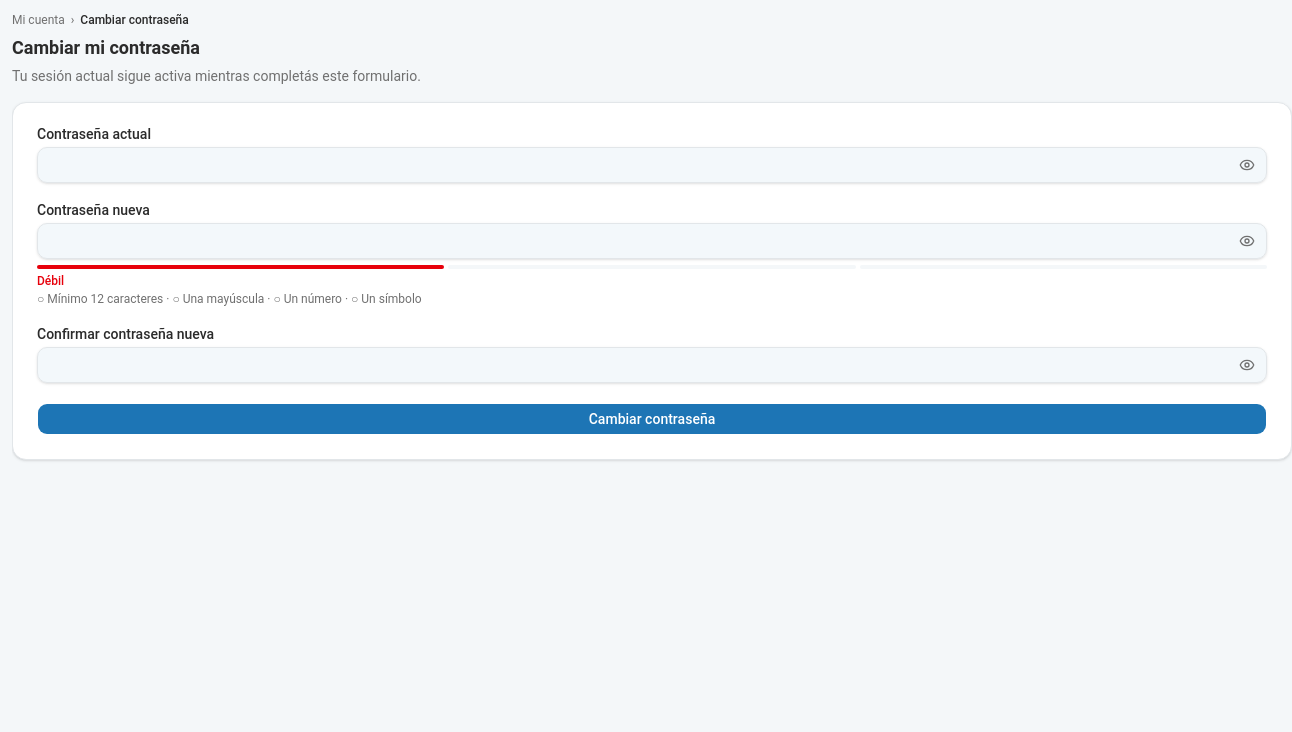
CambiarPassword › muestra que la cuenta quedó bloqueada tras el tercer fallo consecutivo
Step 1. Type "mala" into the password field labelled "Contraseña actual" → point(652, 165), box x1=37 y1=147 x2=1267 y2=183
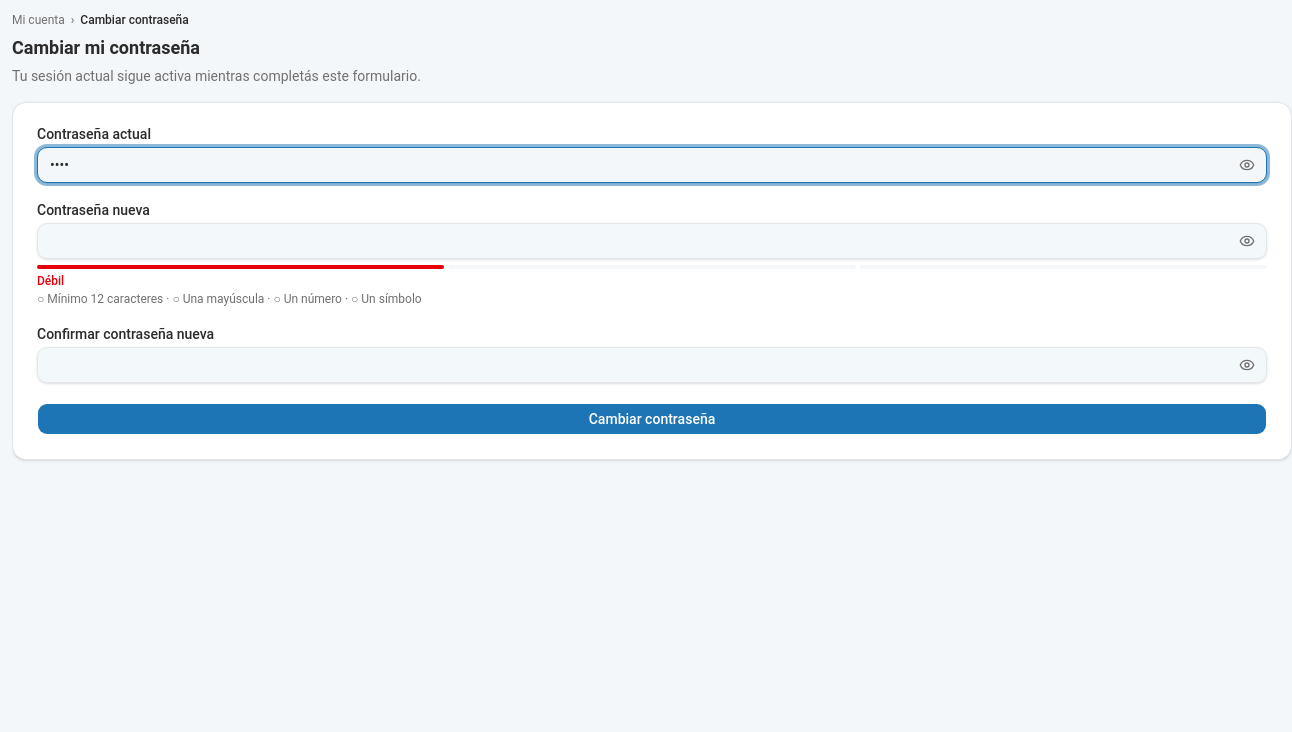
Step 2. Type "nuevaClave123" into the password field labelled "Contraseña nueva" → point(652, 241), box x1=37 y1=223 x2=1267 y2=259
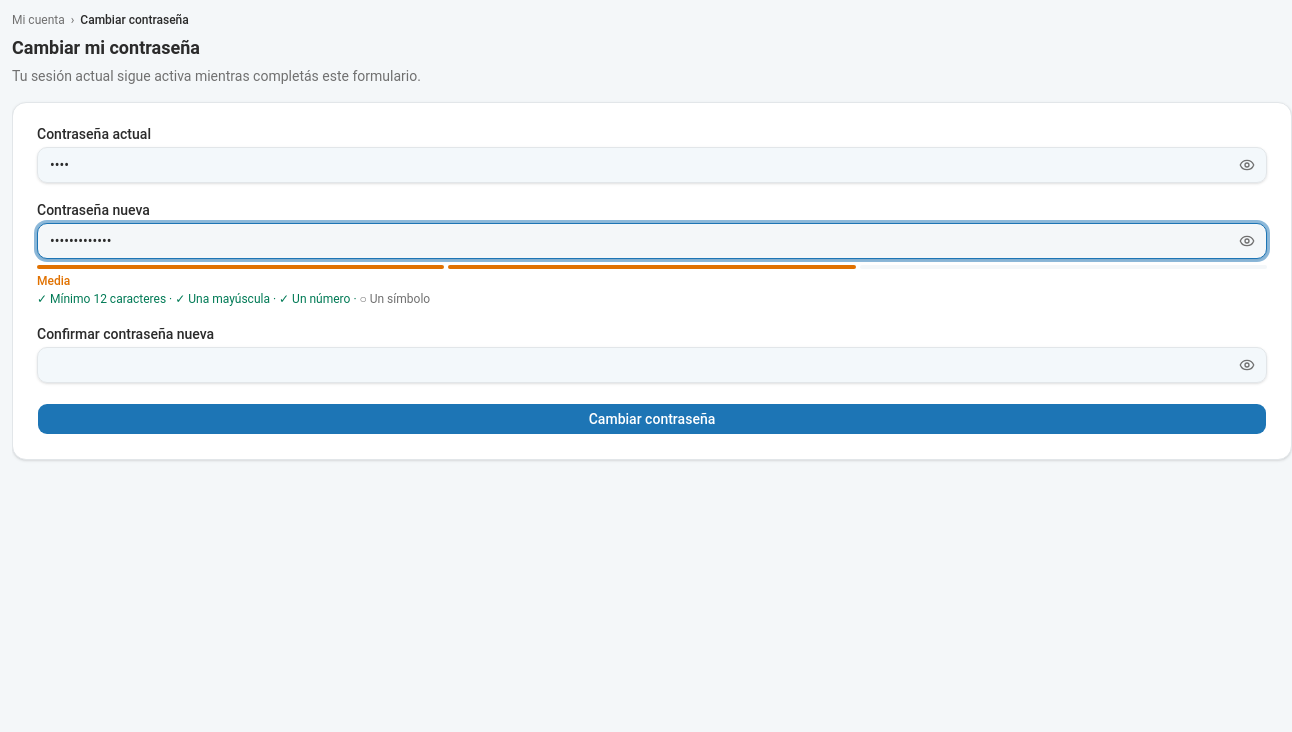
Step 3. Type "nuevaClave123" into the password field labelled "Confirmar contraseña nueva" → point(652, 365), box x1=37 y1=347 x2=1267 y2=383
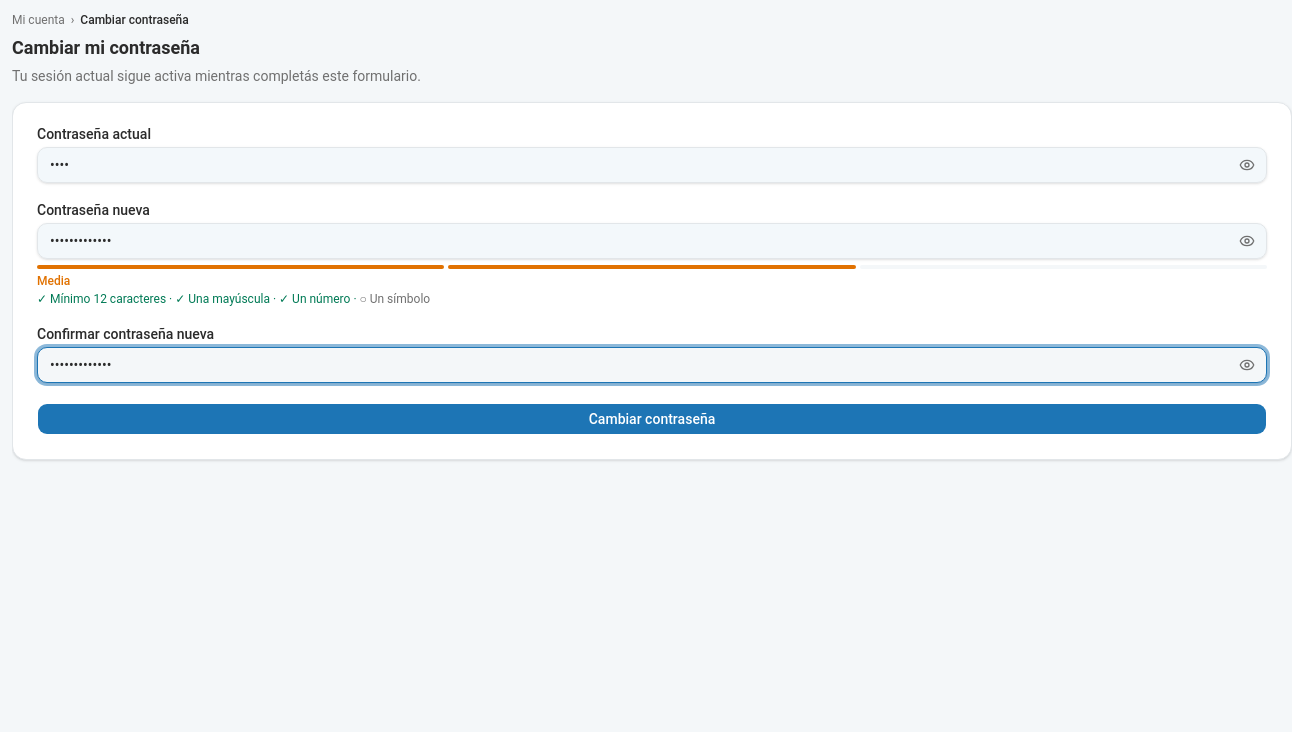
Step 4. Click the button "Cambiar contraseña" → point(652, 419), box x1=37 y1=403 x2=1267 y2=435
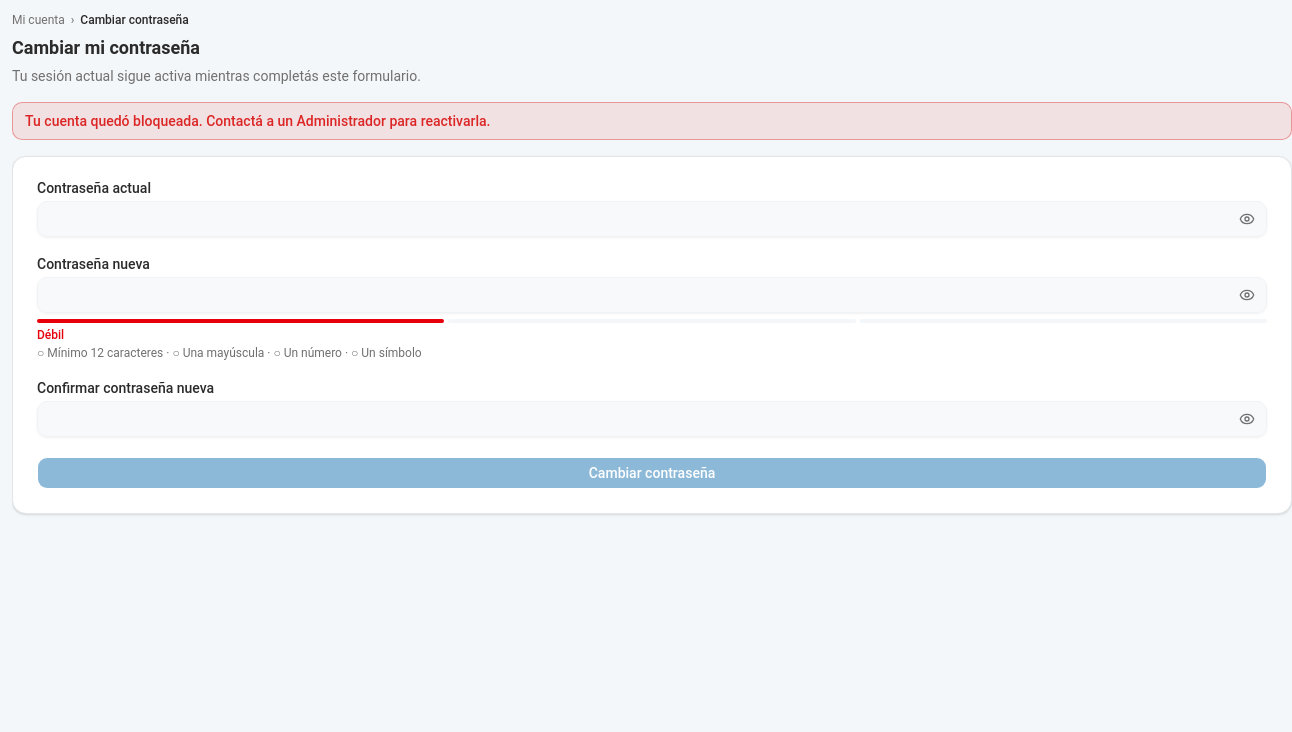
expect the message shows "bloqueada": met, box x1=25 y1=113 x2=490 y2=129
expect the message shows "Administrador": met, box x1=25 y1=113 x2=490 y2=129
expect the button "Cambiar contraseña" is disabled: met, box x1=37 y1=457 x2=1267 y2=489
